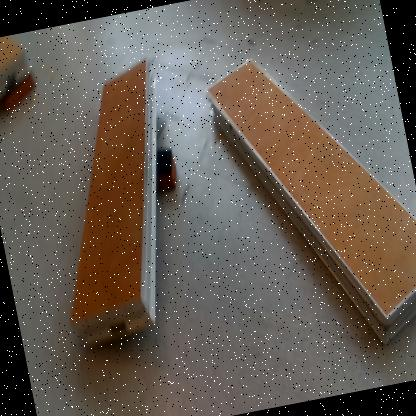Stairs: (206, 59, 416, 349), (64, 61, 157, 346), (1, 36, 33, 96)
